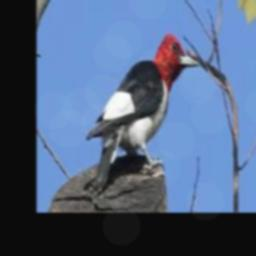Woodpecker: (87, 33, 199, 192)
